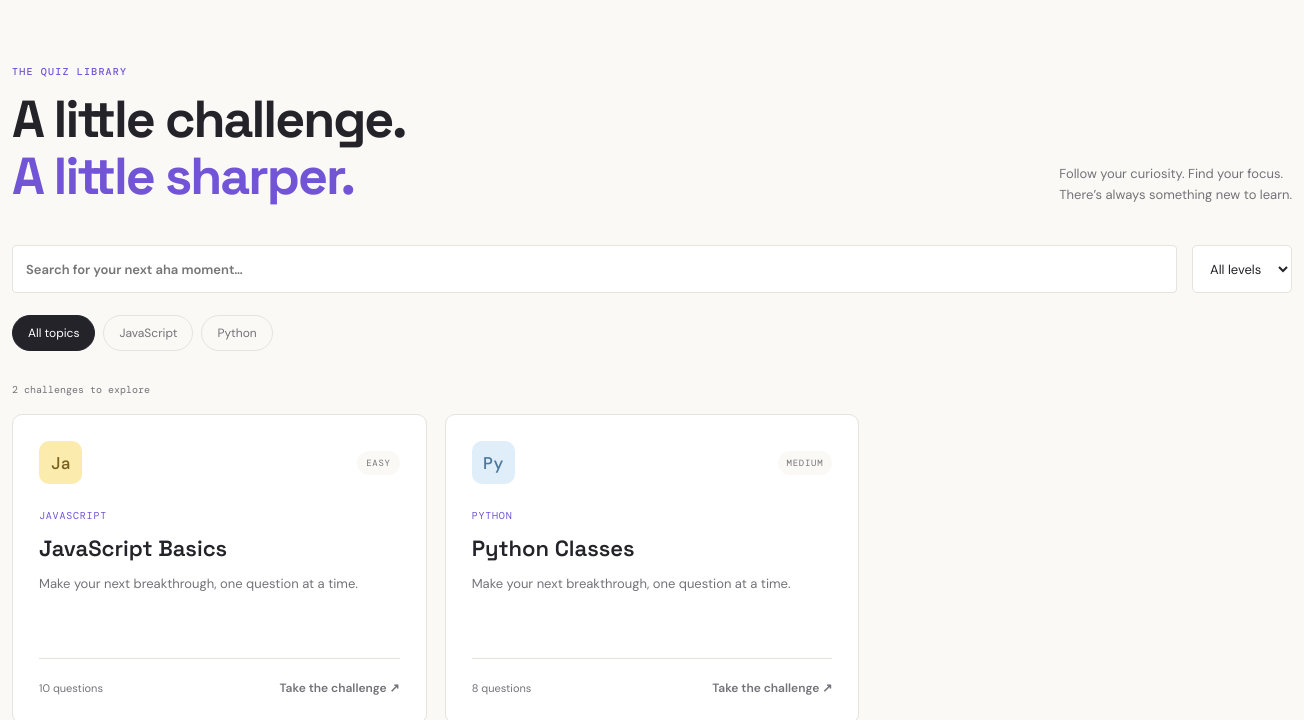
Test: library combines search, topic and level filters and resets an empty search
Expected: the heading "JavaScript Basics" is shown, [39,534,227,562]
Click the button "Python": (237, 333) [202,315,273,351]
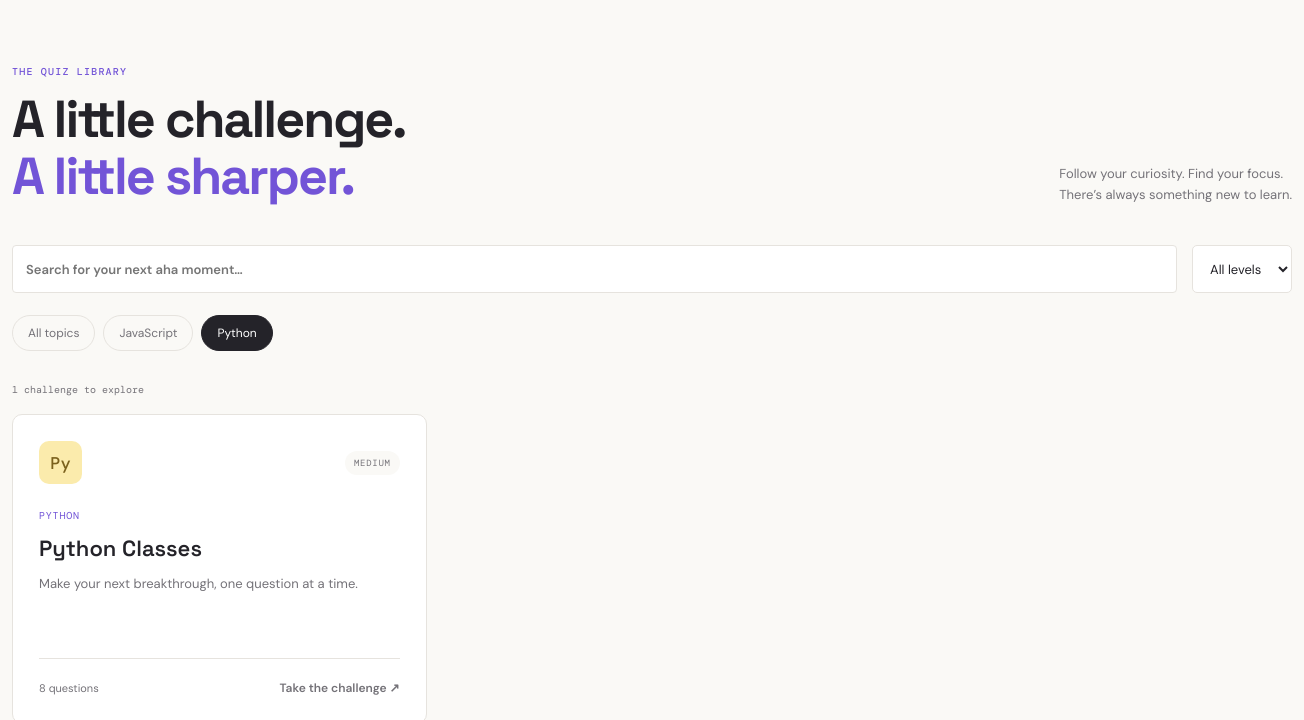
Expected: the heading "JavaScript Basics" is gone
Select "Easy" in the dropdown named "Difficulty": (1242, 269) [1192,245,1292,293]
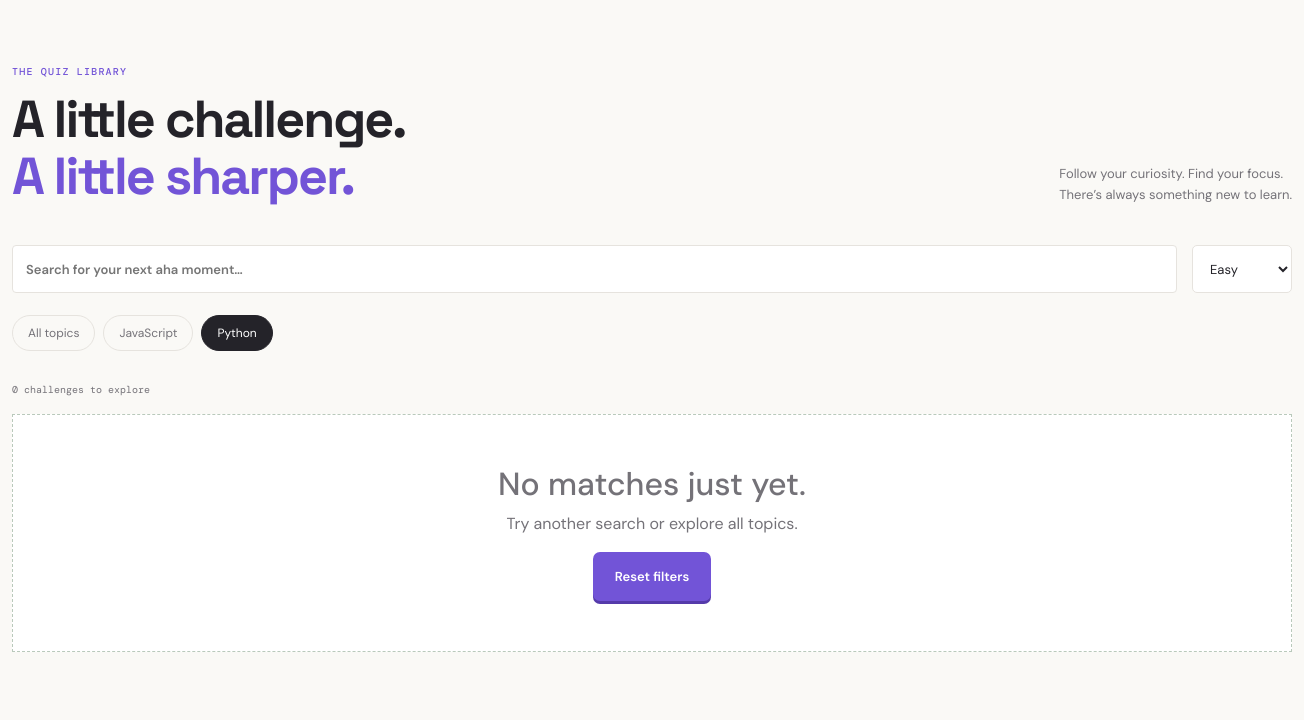
Expected: the heading "No matches just yet." is shown, [498,463,806,505]
Click the button "Reset filters": (652, 577) [593,552,711,601]
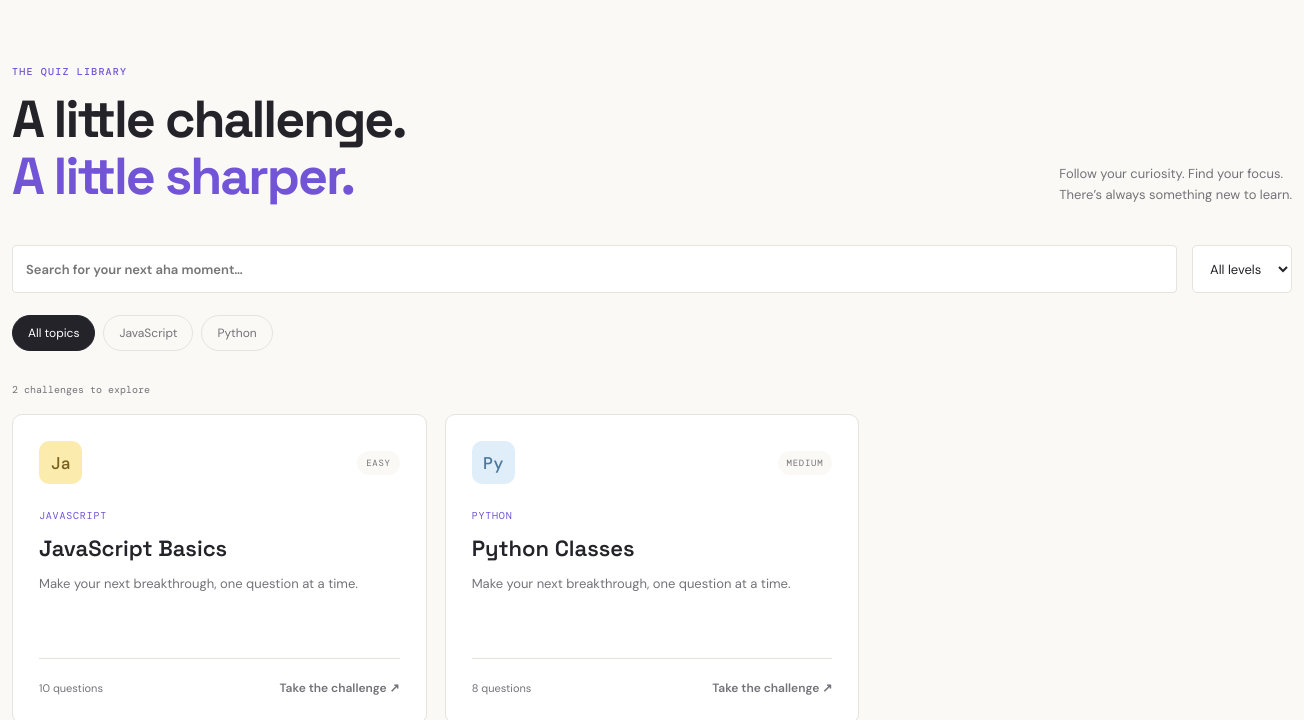
In the search field: (594, 269) [12,245,1177,293], type "Classes"
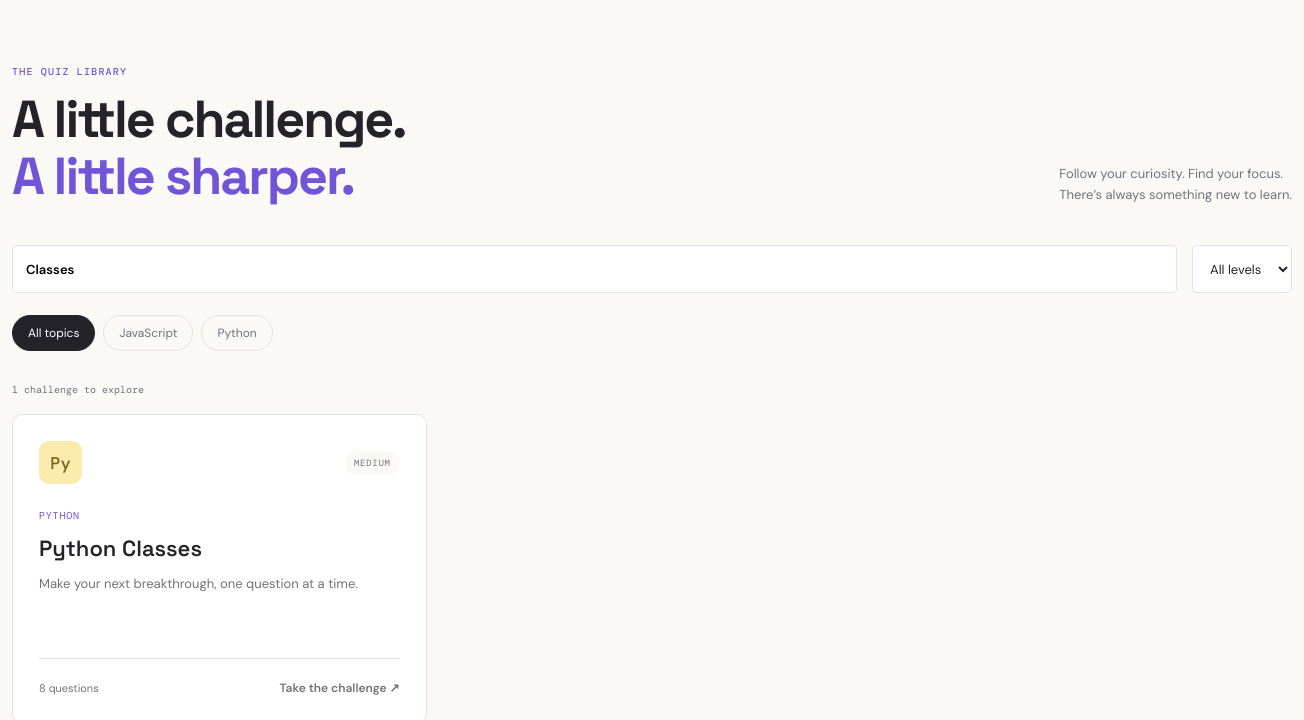
Expected: the heading "Python Classes" is shown, [39,534,202,562]
Expected: the heading "JavaScript Basics" is gone
